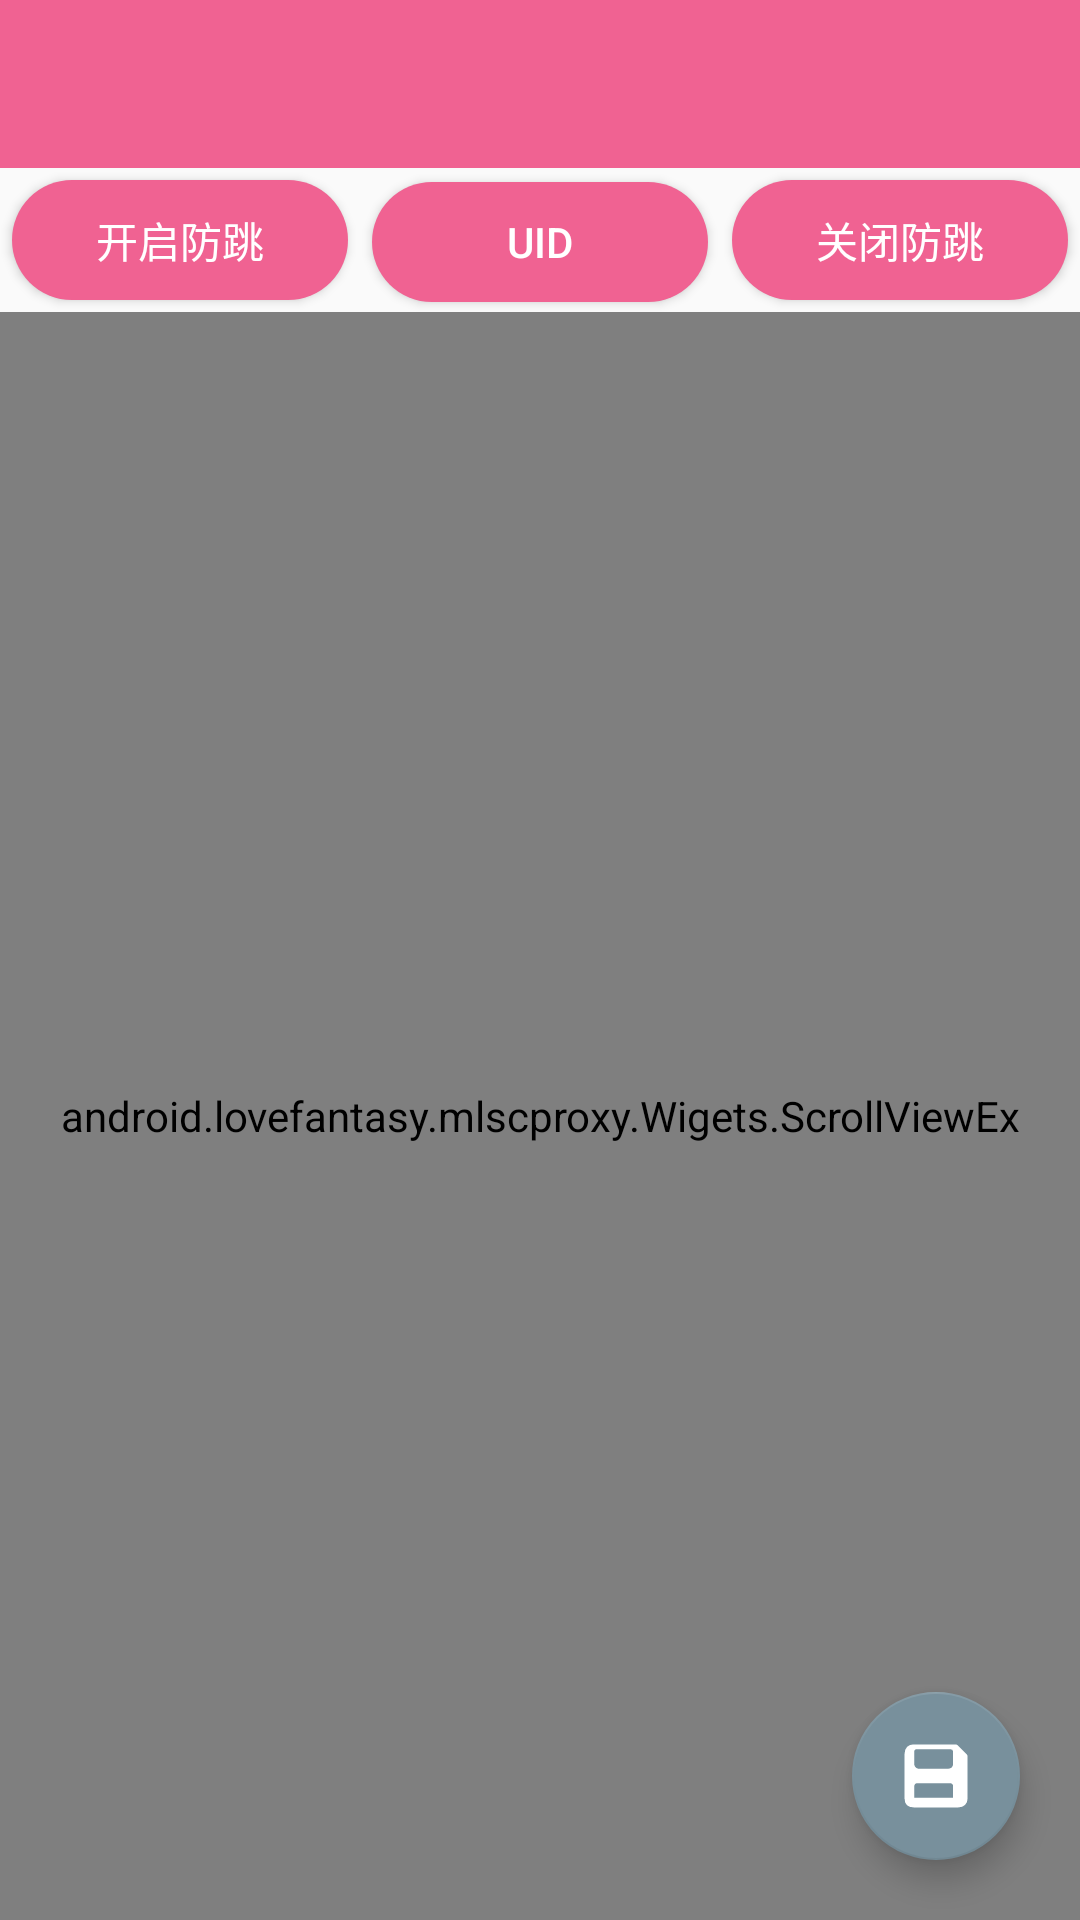

Icon click points for this 1080*1920 phone screenshot, format (x,y):
save: (936,1775)
